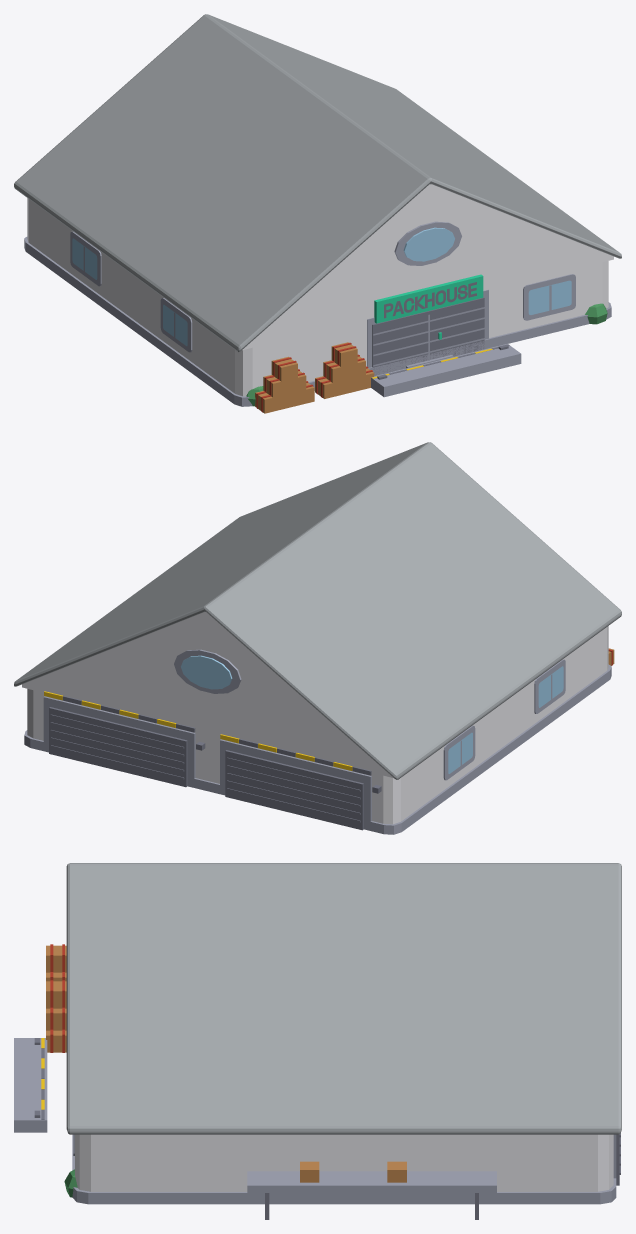
The model's file is packhouse-2x2-t2-tone-a.glb.
3 renders of one model, top to bottom at view 1: azimuth 30°, elevation 25°; view 2: azimuth 150°, elevation 25°; view 3: azimuth 270°, elevation 25°, orthographic. The views are drawn at different scales.
Parts seen in each view (by area): view 1: packhouse-2x2-t2-tone-a; view 2: packhouse-2x2-t2-tone-a; view 3: packhouse-2x2-t2-tone-a.
Boxes of the visible parts, bbox=[...] form: packhouse-2x2-t2-tone-a: bbox=[14, 14, 621, 413]; packhouse-2x2-t2-tone-a: bbox=[14, 442, 621, 834]; packhouse-2x2-t2-tone-a: bbox=[14, 863, 621, 1219].
Bounding box in the file's own units: 2.08 × 0.9066 × 2.19.
Materials: 1 (1 with a texture image).
